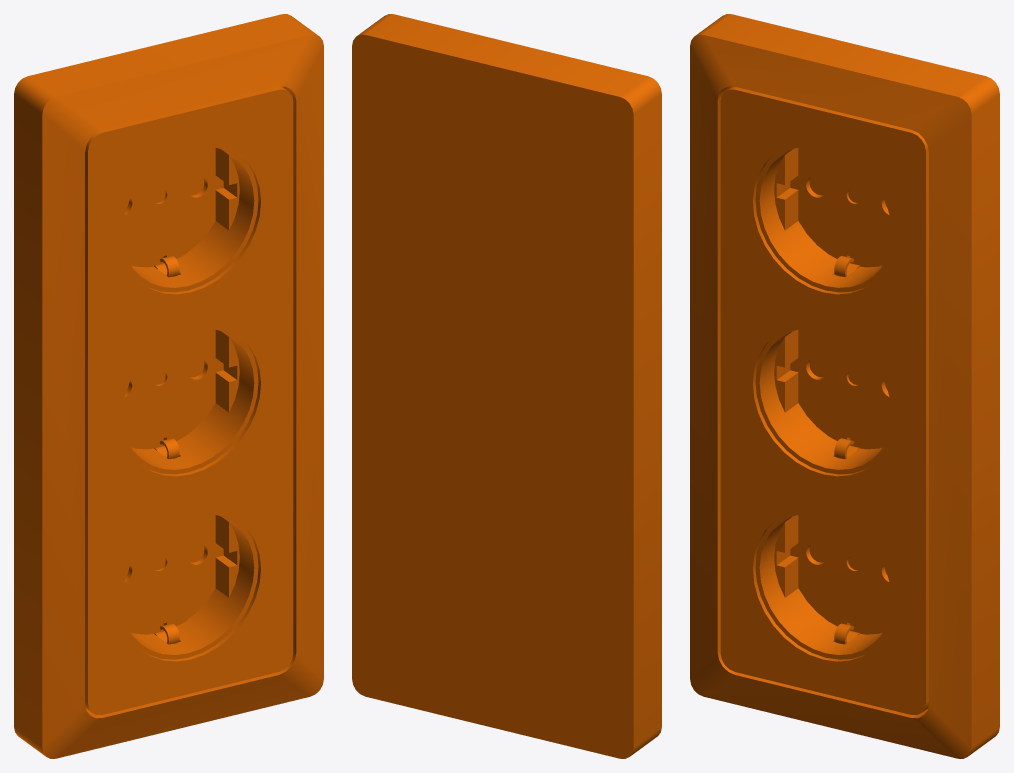
Rendered from Socket03.fbx.
The picture shows the model from 3 angles, left to right: view 1: azimuth 30°, elevation 25°; view 2: azimuth 150°, elevation 25°; view 3: azimuth 330°, elevation 25°; orthographic projection.
Visible parts, largest first — view 1: Socket03; view 2: Socket03; view 3: Socket03.
Part boxes in pixels (box(x1,y1,x2,y2)): Socket03: box(14, 14, 323, 758); Socket03: box(352, 14, 661, 758); Socket03: box(690, 14, 999, 758).
Size of the model in its own units: 8 by 17.97 by 1.77.
